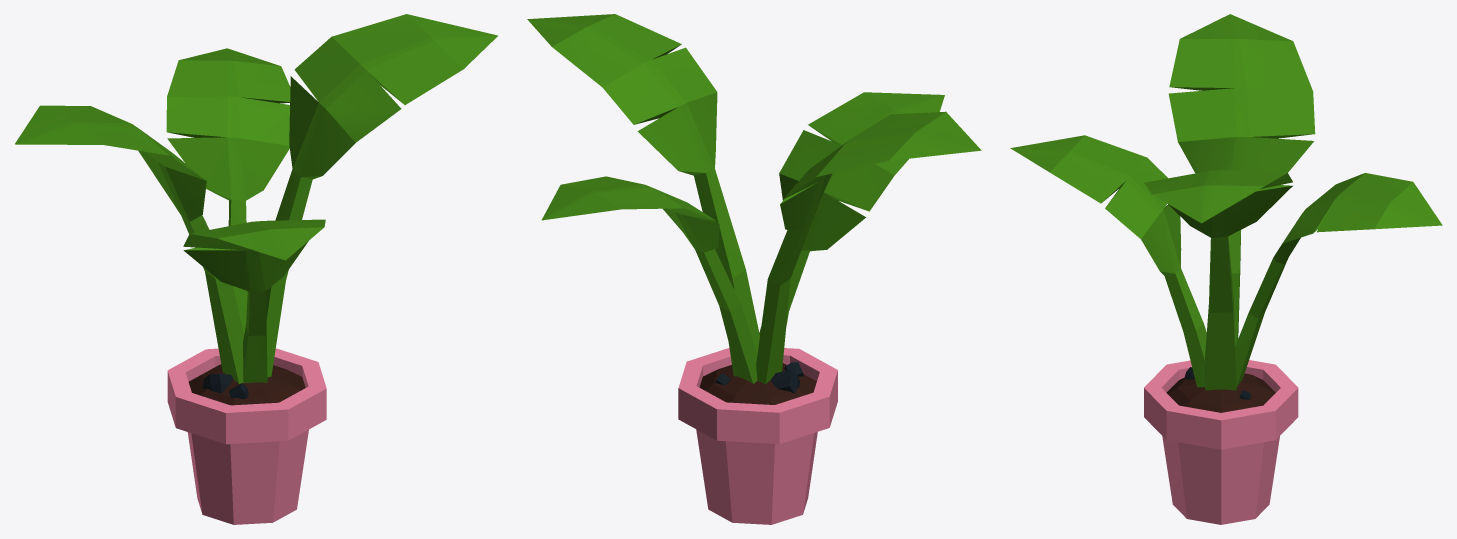
Rendered from plant_02.obj.
The picture shows the model from 3 angles, left to right: view 1: azimuth 30°, elevation 25°; view 2: azimuth 150°, elevation 25°; view 3: azimuth 270°, elevation 25°; orthographic projection. The views are drawn at different scales.
Visible parts, largest first — view 1: plant_01_Cube.006; view 2: plant_01_Cube.006; view 3: plant_01_Cube.006.
Part boxes in pixels (x1,y1,x2,y2): plant_01_Cube.006: (15,14,497,524); plant_01_Cube.006: (527,14,981,524); plant_01_Cube.006: (1010,14,1442,524).
Bounding box in the file's own units: 228 × 199 × 194.
